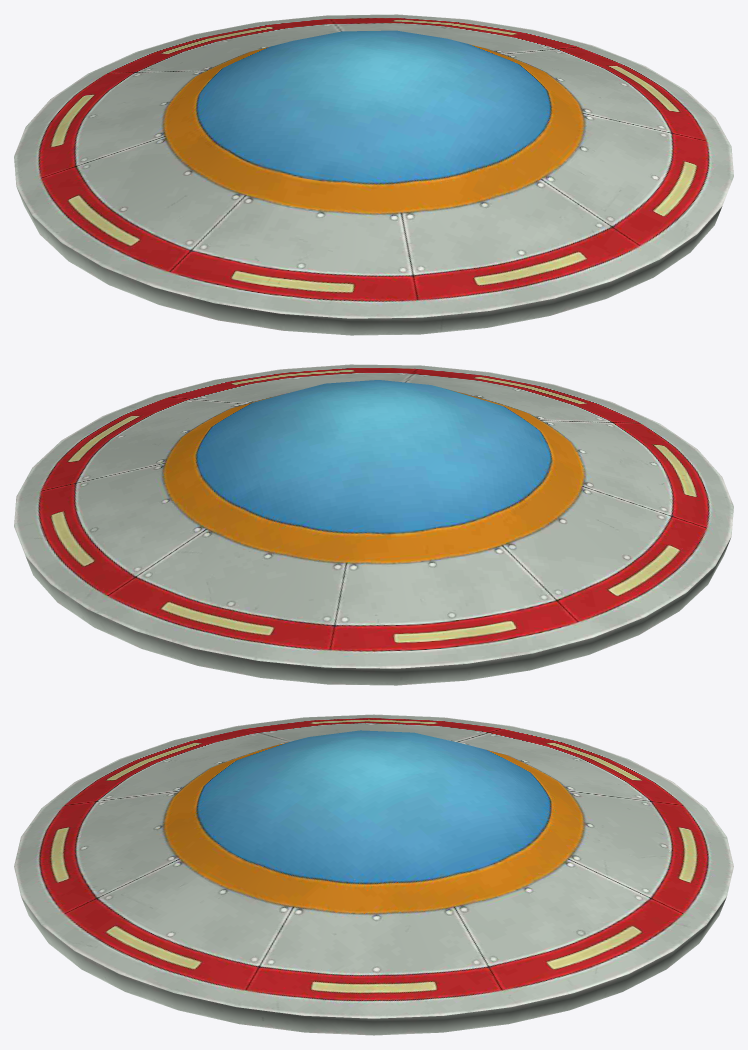
File: UFO_A.dae
3 views of the same model, one above another, from view 1: azimuth 30°, elevation 25°; view 2: azimuth 150°, elevation 25°; view 3: azimuth 270°, elevation 25° (orthographic).
Parts seen in each view (by area): view 1: Flying_Saucer_A; view 2: Flying_Saucer_A; view 3: Flying_Saucer_A.
Part boxes in pixels (x1=…): Flying_Saucer_A: x1=14, y1=14, x2=733, y2=335; Flying_Saucer_A: x1=14, y1=364, x2=733, y2=685; Flying_Saucer_A: x1=14, y1=714, x2=733, y2=1035.
Size of the model in its own units: 20 by 5.45 by 20.
1 material, 1 textured.
